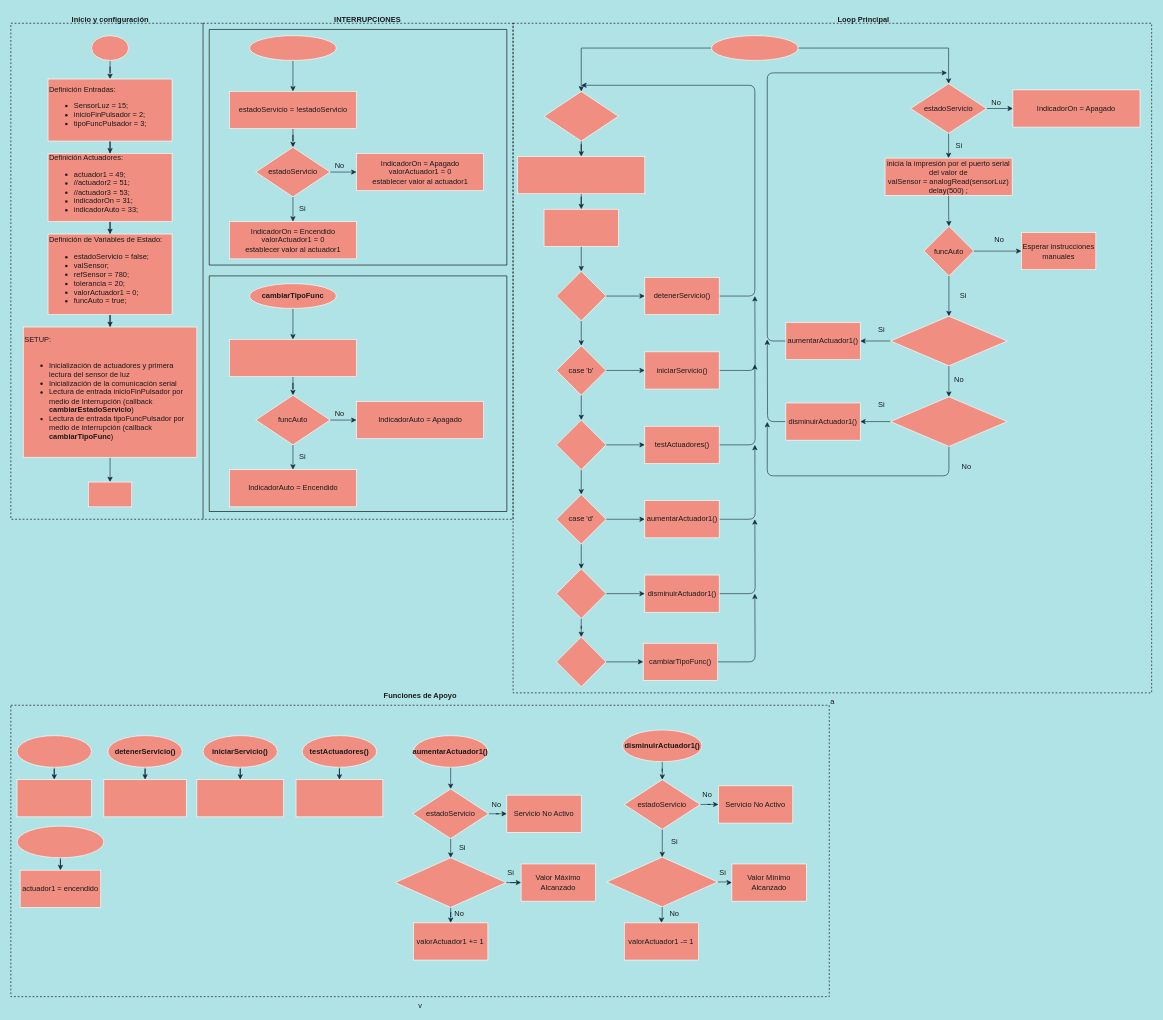
This 1163x1020 diagram has some shape labels left out. Here are the shapes that lost their labels. From the top down, the centre of each, then its label:
pixel 110 47: Inicio
pixel 292 47: cambiarEstadoServicio
pixel 754 47: loop
pixel 580 116: puerto serial disponible
pixel 581 175: lectura del puerto serial int inByte = Serial.read();
pixel 580 227: switch(inByte)
pixel 581 296: case 'a'
pixel 292 358: funcAuto = !funcAuto
pixel 948 341: valSensor > refSensor + tol
pixel 948 421: valSensor < refSensor - tol
pixel 581 444: case 'c'
pixel 110 494: loop()
pixel 581 593: case 'e'
pixel 581 661: case 'f'
pixel 53 751: apagarActuadores()
pixel 53 798: actuador1 = apagado
pixel 144 798: estadoServicio = false indicadorOn = apagado apagarActuadores()
pixel 240 798: estadoServicio = true indicadorOn = encendido
pixel 339 798: estadoServicio = false indicadorOn = apagado blink N veces actuadores
pixel 60 842: encenderActuadores()
pixel 450 882: valorActuador1 == 255
pixel 662 882: valorActuador1 == 0
